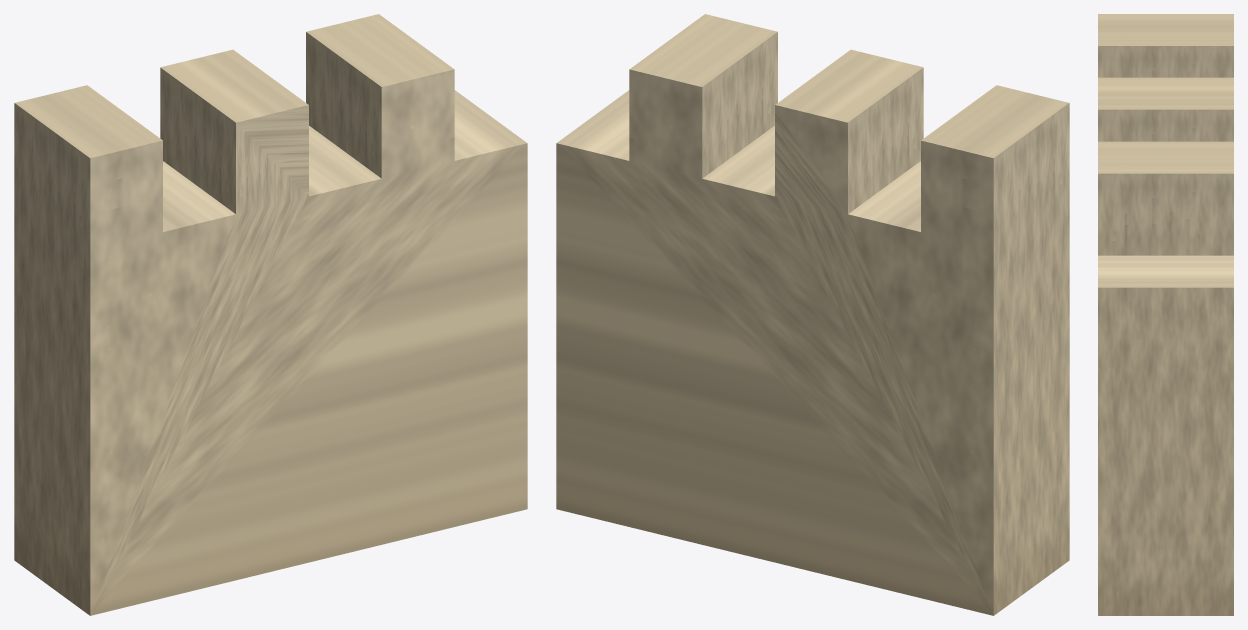
3 views of the same model, side by side, from view 1: azimuth 30°, elevation 25°; view 2: azimuth 150°, elevation 25°; view 3: azimuth 270°, elevation 25° (orthographic). The views are drawn at different scales.
Visible parts, largest first — view 1: wall; view 2: wall; view 3: wall.
Boxes of the visible parts, x1,y1,x2,y2 form: wall: [14, 14, 527, 615]; wall: [556, 14, 1069, 615]; wall: [1098, 14, 1233, 615].
Bounding box in the file's own units: 1 × 1 × 0.3.
Materials: 1 (1 with a texture image).
